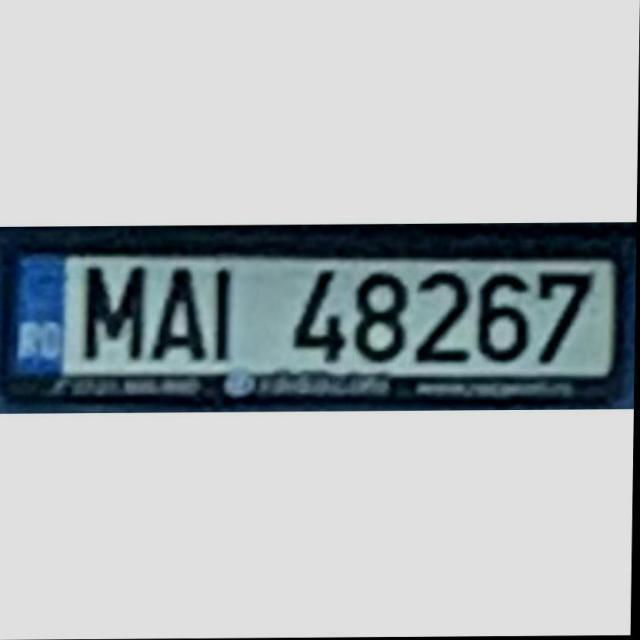license-plates: (1, 247, 625, 407)
